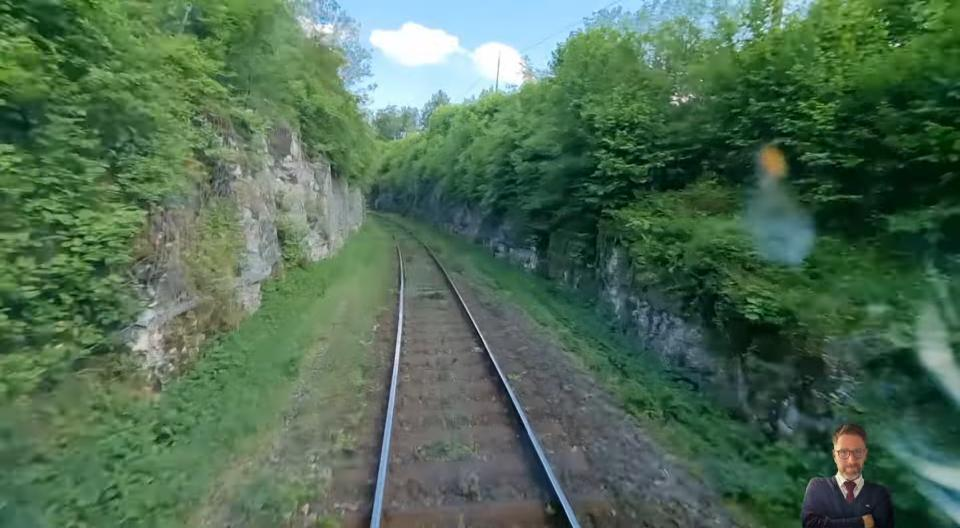Plant: (391, 217, 830, 528), (72, 227, 390, 528), (870, 444, 943, 528)
